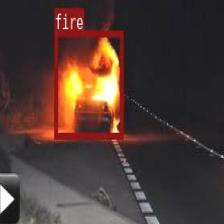fire: (54, 30, 123, 138)
